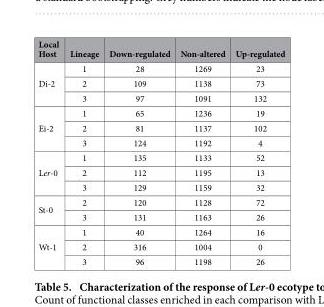table: (37, 37, 284, 267)
table column: (103, 37, 174, 267), (174, 37, 229, 267), (229, 37, 284, 267), (63, 37, 103, 267), (37, 37, 63, 267)
table column header: (37, 37, 284, 60)
table row: (37, 37, 284, 60), (37, 60, 284, 75), (37, 75, 284, 90), (37, 90, 284, 105), (37, 105, 284, 120), (37, 134, 284, 149), (37, 149, 284, 164), (37, 164, 284, 179), (37, 179, 284, 194), (37, 194, 284, 209), (37, 209, 284, 224), (37, 224, 284, 239), (37, 120, 284, 134), (37, 239, 284, 253), (37, 253, 284, 267)
table spanning cell: (37, 60, 63, 105), (37, 149, 63, 194), (37, 105, 63, 149), (37, 224, 63, 267), (37, 194, 63, 224)
